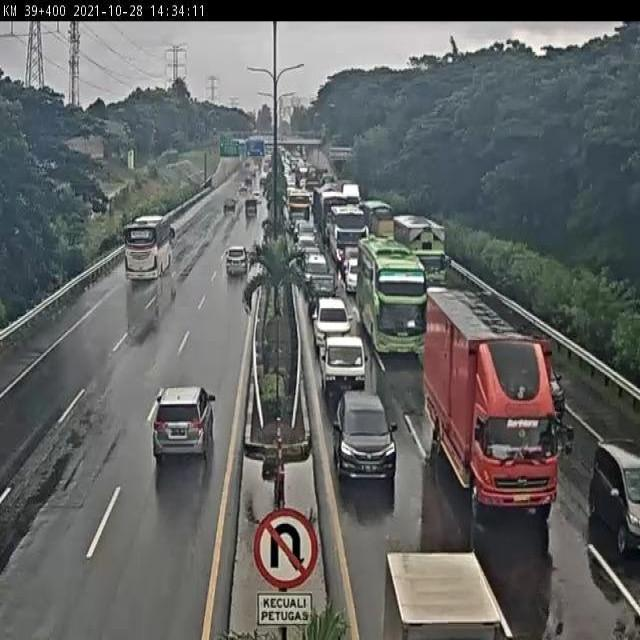bus-l-: (360, 242, 431, 354), (121, 211, 175, 284), (330, 208, 366, 265)
car: (332, 390, 397, 482), (521, 341, 567, 415), (322, 340, 365, 392), (315, 303, 354, 341), (304, 272, 337, 307), (222, 242, 251, 278), (303, 250, 328, 270), (297, 234, 317, 258)
truck-l-: (424, 288, 559, 517), (392, 216, 453, 292)
